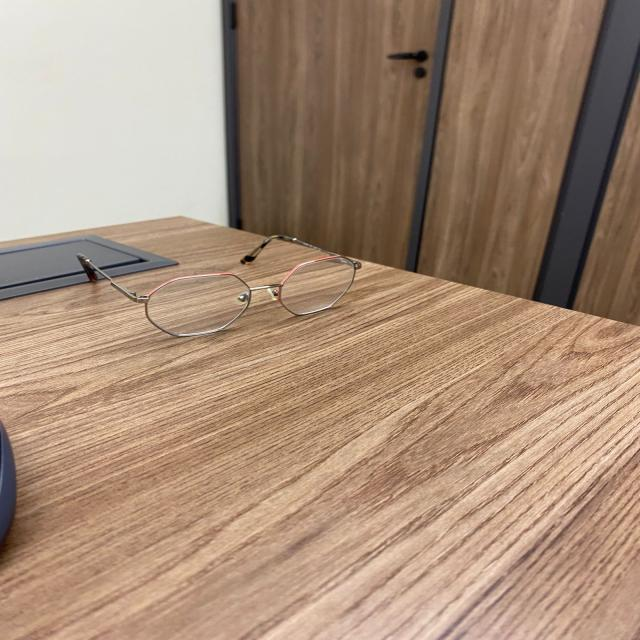sem_oculos: (79, 234, 364, 337)
